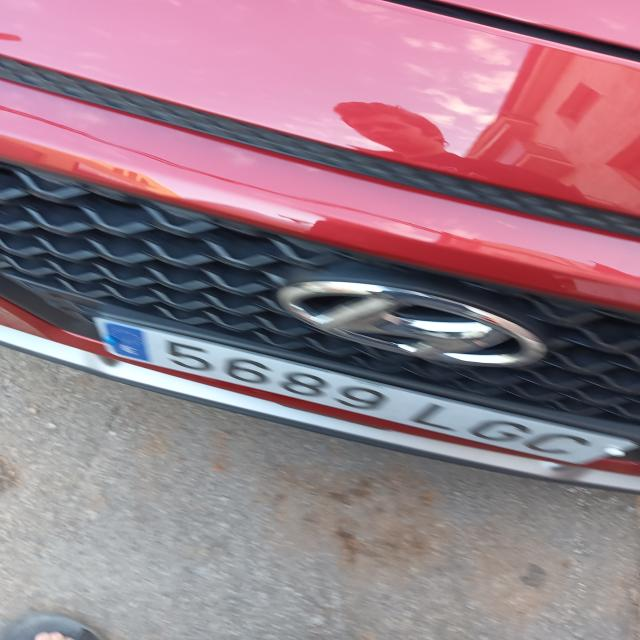license_plate-34Td: (94, 317, 637, 464)
